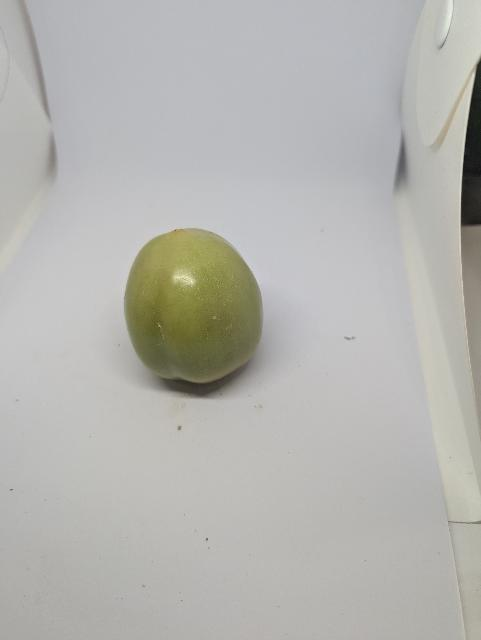green: (123, 226, 265, 387)
